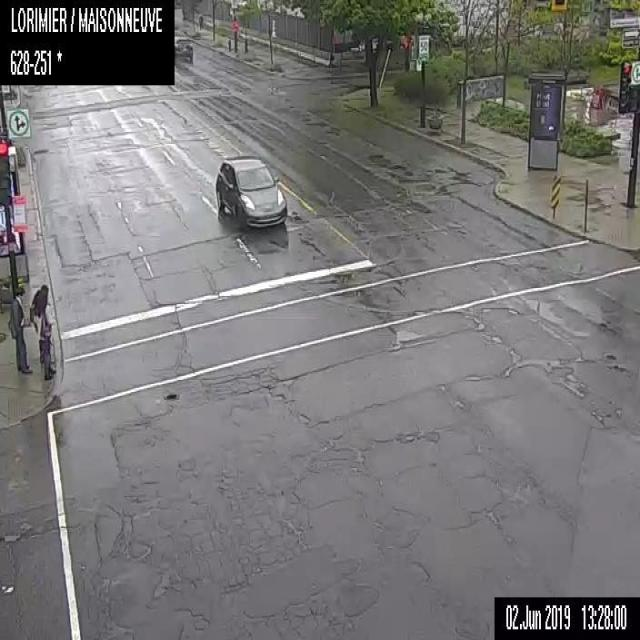pedestrian: (28, 284, 56, 380), (6, 284, 33, 375), (198, 14, 203, 29)
vehicle: (213, 153, 287, 231), (174, 34, 192, 59)
